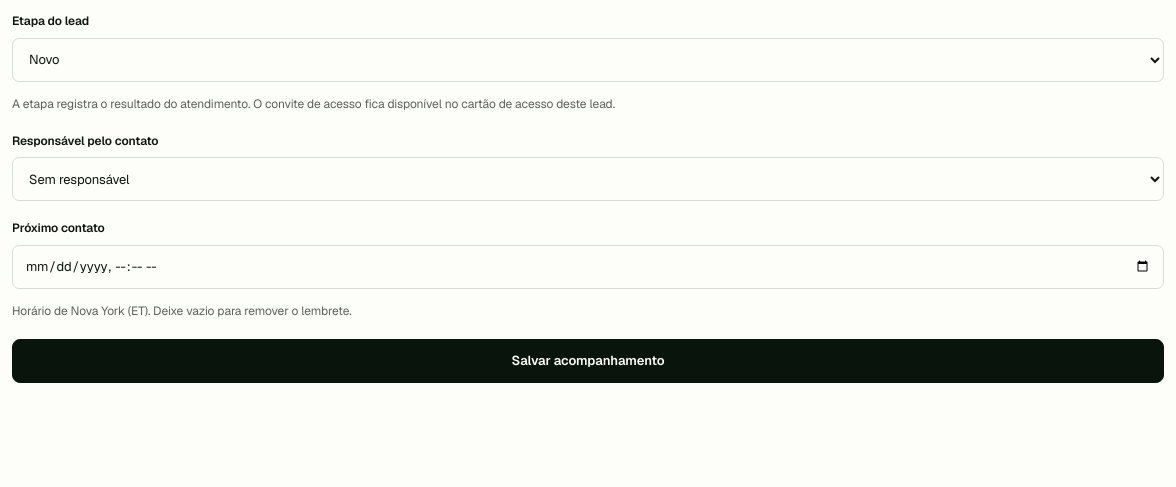
Marketing lead follow-up › converts New York appointment time to UTC and submits the owner and stage
Select "Qualificado" in the dropdown labelled "Etapa do lead" at (588, 60), box [12,38,1164,82]
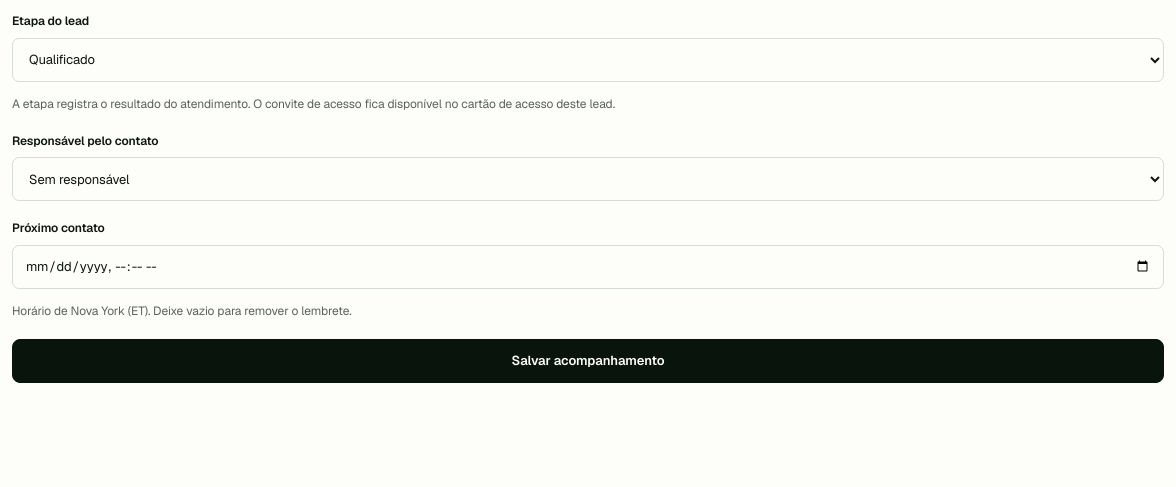
Select "Admin" in the dropdown labelled "Responsável pelo contato" at (588, 179), box [12,157,1164,201]
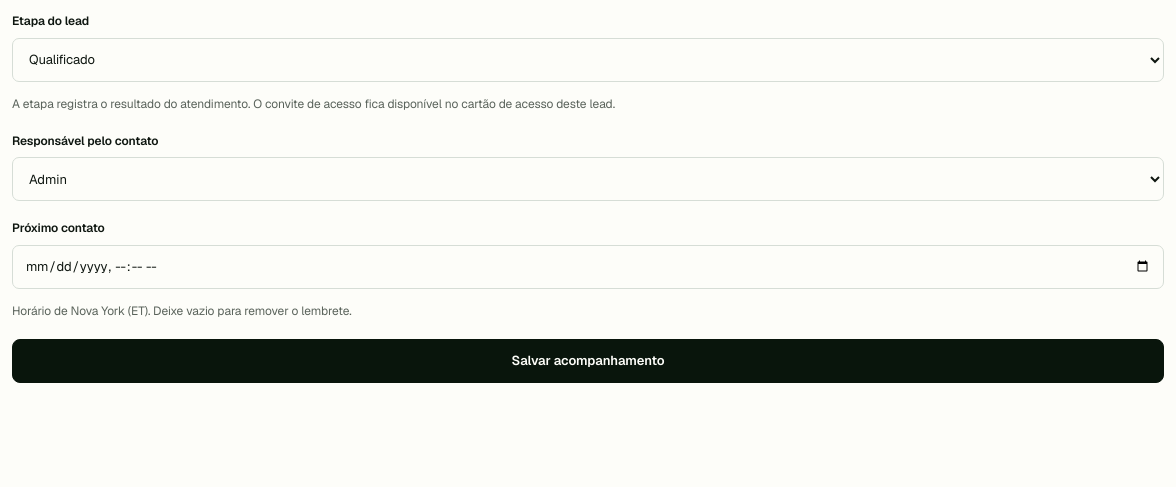
Type "2026-07-10T14:30" into the field labelled "Próximo contato" at (588, 267), box [12,245,1164,289]
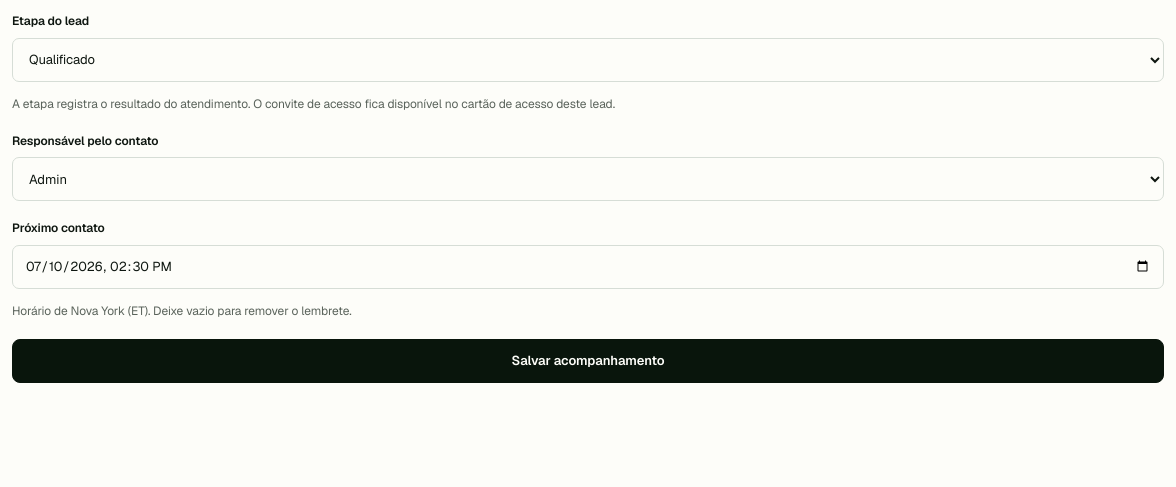
Click the button "Salvar acompanhamento" at (588, 361), box [12,339,1164,383]
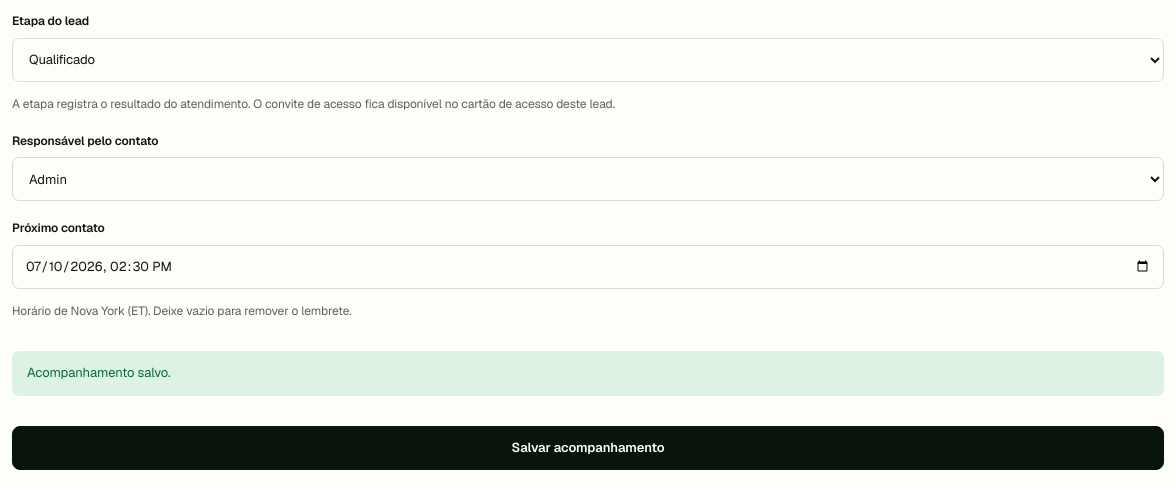
Now the message "Acompanhamento salvo." is shown, box [12,351,1164,396]
